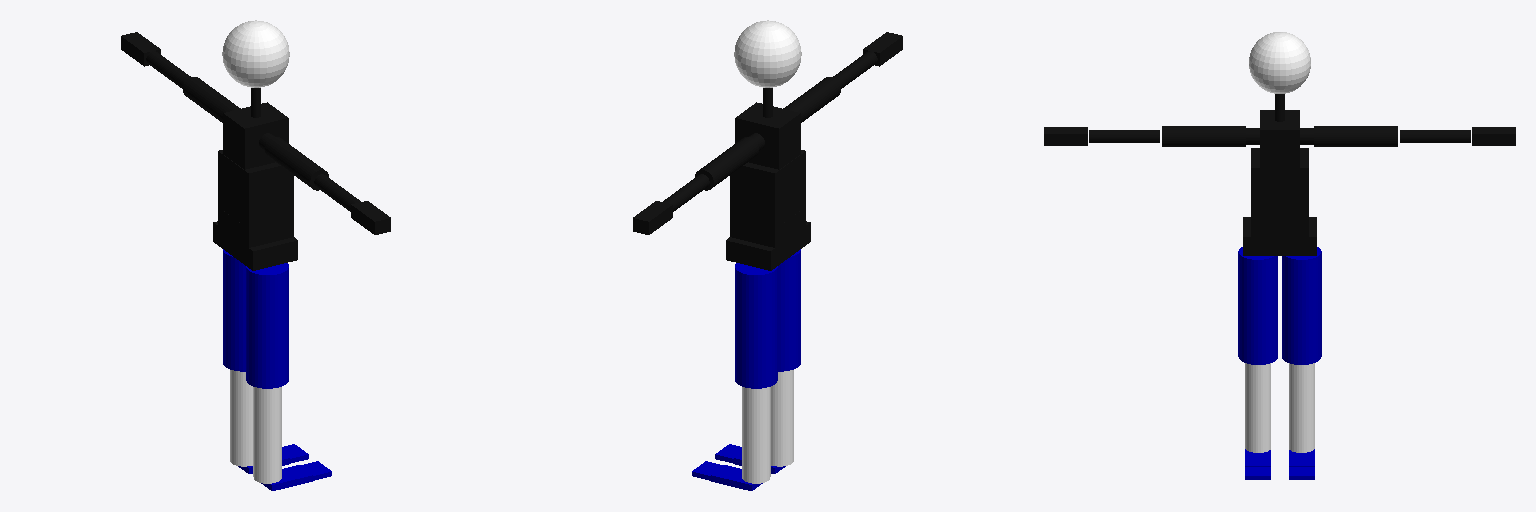
--- Render facts (derived) ---
The picture shows the robot from 3 angles, left to right: view 1: azimuth 30°, elevation 25°; view 2: azimuth 150°, elevation 25°; view 3: azimuth 270°, elevation 25°; orthographic projection.
Model XSensStyleModel_template with 50 links and 49 joints (48 revolute, 1 fixed), rooted at world, posed all joints at 0.
Visible links, largest first — view 1: RightUpperLeg, Head, T8, RightLowerLeg, LeftUpperLeg, T12, LeftLowerLeg, L3, Pelvis, L5, RightUpperArm, LeftUpperArm (+5 smaller); view 2: LeftUpperLeg, Head, T8, LeftLowerLeg, RightUpperLeg, T12, RightLowerLeg, L3, Pelvis, L5, LeftUpperArm, RightUpperArm (+5 smaller); view 3: RightUpperLeg, LeftUpperLeg, Head, RightLowerLeg, LeftLowerLeg, T8, T12, RightUpperArm, LeftUpperArm, Pelvis, L3, RightForeArm (+4 smaller).
Boxes of the visible links, box(x1,y1,x2,y2) form: RightUpperLeg: box(246, 263, 288, 388); Head: box(222, 20, 289, 87); T8: box(223, 102, 288, 169); RightLowerLeg: box(253, 387, 281, 483); LeftUpperLeg: box(223, 249, 245, 371); T12: box(218, 150, 293, 202); LeftLowerLeg: box(230, 370, 252, 466); L3: box(218, 181, 293, 231); Pelvis: box(213, 221, 297, 270); L5: box(218, 207, 293, 254); RightUpperArm: box(265, 137, 328, 190); LeftUpperArm: box(183, 77, 240, 122); LeftUpperLeg: box(735, 263, 777, 388); Head: box(734, 20, 801, 87); T8: box(735, 102, 800, 169); LeftLowerLeg: box(742, 387, 770, 483); RightUpperLeg: box(778, 249, 800, 371); T12: box(730, 150, 805, 202); RightLowerLeg: box(771, 370, 793, 466); L3: box(730, 181, 805, 230); Pelvis: box(726, 221, 810, 270); L5: box(730, 207, 805, 254); LeftUpperArm: box(695, 137, 758, 190); RightUpperArm: box(783, 77, 840, 122); RightUpperLeg: box(1238, 247, 1277, 364); LeftUpperLeg: box(1282, 247, 1321, 364); Head: box(1249, 32, 1310, 93); RightLowerLeg: box(1245, 363, 1270, 452); LeftLowerLeg: box(1289, 363, 1314, 452); T8: box(1260, 110, 1299, 167); T12: box(1251, 148, 1308, 195); RightUpperArm: box(1162, 126, 1245, 146); LeftUpperArm: box(1314, 126, 1397, 146); Pelvis: box(1243, 217, 1316, 255); L3: box(1251, 196, 1308, 222); RightForeArm: box(1089, 130, 1159, 142).
Bounding box of the posed robot: 0.2638 × 1.34 × 1.32 m (x, y, z).
Geometry: primitives only (box / cylinder / sphere), no mesh files.

robot.urdf — XSensStyleModel_template:
<!--URDF MODEL 48 DoFs-->

<!-- COTE GAUCHE ET DROITE DU BAS DU CORPS SONT INVERSES (ou pas)!!!! -->

<robot name="XSensStyleModel_template">

<material name="color">
    <color rgba="0.1 0.1 0.1 1"/>
</material>

<material name="blue">
    <color rgba="0 0 0.8 1"/>
</material>

<material name="red_transparency">
     <color rgba="1 0 0 0.5"/>              
</material>

<material name="white">
             <color rgba="1 1 1 1"/>
           </material>
<!--To open this model with Gazebo replace the null masses, inertias and dimensions of the 'fake links f1 and f2'-->

    <!--LINKS-->
    ################### AJOUT DU MONDE #################
    <link name="world"/>
    <joint name="joint_base" type="fixed">
    <origin xyz="0 0 0.67" rpy="0 0 0"/>
    <parent link="world"/>
    <child link="Pelvis"/>
    </joint>
    ######################################################
	<!--Link base (1)-->
	<link name="Pelvis">
        <inertial>
            <mass value="2.109"/>
			<!--COM origin wrt pHipOrigin-->
            <origin xyz="0           0    0.049743" rpy="0 0 0" />
            <inertia ixx="0.037" iyy="0.0027" izz="0.0045" ixy="0" ixz="0" iyz="0"/>
        </inertial>

        <visual>
			<!--box origin wrt pHipOrigin-->
            <origin xyz="0           0    0.049743" rpy="0 0 0" />
            <geometry>
                <box size="0.13815     0.20914    0.057469"/>
            </geometry>
            <material name="color"/>
        </visual>

        <collision>
			<!--box origin wrt pHipOrigin-->
            <origin xyz="0           0    0.049743" rpy="0 0 0" />
            <geometry>
                <box size="0.13815     0.20914    0.057469"/>
            </geometry>
        </collision>

    </link>
    <!--Chain from (2) to (7)-->
	<link name="L5_f1">
        <inertial>
            <mass value="0"/>
            <origin xyz="0 0 0" rpy="0 0 0" />
            <inertia ixx="0" iyy="0" izz="0" ixy="0" ixz="0" iyz="0"/>
        </inertial>
    </link>
	<link name="L5">
        <inertial>
            <mass value="1.5"/>
			<!--COM origin wrt jL5S1-->
            <origin xyz="0           0    0.047552" rpy="0 0 0" />
            <inertia ixx="0.1118" iyy="0.0715" izz="0.1609" ixy="0" ixz="0" iyz="0"/>
        </inertial>

        <visual>
			<!--box origin origin wrt jL5S1-->
            <origin xyz="0           0    0.047552" rpy="0 0 0" />
            <geometry>
                <box size="0.13815     0.16323    0.075104"/>
            </geometry>
            <material name="color"/>
        </visual>

        <collision>
			<!--box origin origin wrt jL5S1-->
            <origin xyz="0           0    0.047552" rpy="0 0 0" />
            <geometry>
                <box size="0.13815     0.16323    0.075104"/>
            </geometry>
        </collision>
    </link>
	<link name="L3_f1">
        <inertial>
            <mass value="0"/>
            <origin xyz="0 0 0" rpy="0 0 0" />
            <inertia ixx="0" iyy="0" izz="0" ixy="0" ixz="0" iyz="0"/>
        </inertial>
    </link>
	<link name="L3">
        <inertial>
            <mass value="1.5"/>
			<!--COM origin wrt jL4L3-->
            <origin xyz="0           0    0.042958" rpy="0 0 0" />
            <inertia ixx="0.1118" iyy="0.0715" izz="0.1609" ixy="0" ixz="0" iyz="0"/>
        </inertial>

        <visual>
			<!--box origin origin wrt jL4L3-->
            <origin xyz="0           0    0.042958" rpy="0 0 0" />
            <geometry>
                <box size="0.13815     0.16323    0.085916"/>
            </geometry>
            <material name="color"/>
        </visual>

        <collision>
			<!--box origin origin wrt jL4L3-->
            <origin xyz="0           0    0.042958" rpy="0 0 0" />
            <geometry>
                <box size="0.13815     0.16323    0.085916"/>
            </geometry>
        </collision>
    </link>
	<link name="T12_f1">
        <inertial>
            <mass value="0"/>
            <origin xyz="0 0 0" rpy="0 0 0" />
            <inertia ixx="0" iyy="0" izz="0" ixy="0" ixz="0" iyz="0"/>
        </inertial>
    </link>
	<link name="T12">
        <inertial>
            <mass value="1.5"/>
			<!--COM origin wrt jL1T12-->
            <origin xyz="0           0    0.042958" rpy="0 0 0" />
            <inertia ixx="0.1118" iyy="0.0715" izz="0.1609" ixy="0" ixz="0" iyz="0"/>
        </inertial>

        <visual>
			<!--box origin origin wrt jL1T12-->
            <origin xyz="0           0    0.042958" rpy="0 0 0" />
            <geometry>
                <box size="0.13815     0.16323    0.085916"/>
            </geometry>
            <material name="color"/>
        </visual>

        <collision>
			<!--box origin origin wrt jL1T12-->
            <origin xyz="0           0    0.042958" rpy="0 0 0" />
            <geometry>
                <box size="0.13815     0.16323    0.085916"/>
            </geometry>
        </collision>
    </link>
	<link name="T8_f1">
        <inertial>
            <mass value="0"/>
            <origin xyz="0 0 0" rpy="0 0 0" />
            <inertia ixx="0" iyy="0" izz="0" ixy="0" ixz="0" iyz="0"/>
        </inertial>
    </link>
	<link name="T8_f2">
        <inertial>
            <mass value="0"/>
            <origin xyz="0 0 0" rpy="0 0 0" />
            <inertia ixx="0" iyy="0" izz="0" ixy="0" ixz="0" iyz="0"/>
        </inertial>
    </link>
	<link name="T8">
        <inertial>
            <mass value="2.109"/>
			<!--COM origin wrt jT9T8-->
            <origin xyz="0           0    0.059874" rpy="0 0 0" />
            <inertia ixx="0.0037" iyy="0.0029" izz="0.0026" ixy="0" ixz="0" iyz="0"/>
        </inertial>

        <visual>
			<!--box origin wrt jT9T8-->
            <origin xyz="0           0    0.059874" rpy="0 0 0" />
            <geometry>
                <box size="0.13457    0.112626     0.11975"/>
            </geometry>
            <material name="color"/>
        </visual>

        <collision>
			<!--box origin wrt jT9T8-->
            <origin xyz="0           0    0.059874" rpy="0 0 0" />
            <geometry>
                <box size="0.13457    0.112626     0.11975"/>
            </geometry>
        </collision>

    </link>
	<link name="Neck_f1">
        <inertial>
            <mass value="0"/>
            <origin xyz="0 0 0" rpy="0 0 0" />
            <inertia ixx="0" iyy="0" izz="0" ixy="0" ixz="0" iyz="0"/>
        </inertial>
    </link>
	<link name="Neck_f2">
        <inertial>
            <mass value="0"/>
            <origin xyz="0 0 0" rpy="0 0 0" />
            <inertia ixx="0" iyy="0" izz="0" ixy="0" ixz="0" iyz="0"/>
        </inertial>
    </link>
	<link name="Neck">
        <inertial>
            <mass value="0.500"/>
			<!--COM origin wrt jT1C7-->
            <origin xyz="0           0    0.044626" rpy="0 0 0" />
            <inertia ixx="0.0006461" iyy="0.0006461" izz="0.00030124" ixy="0" ixz="0" iyz="0"/>
        </inertial>

        <visual>
			<!--box origin wrt jT1C7-->
            <origin xyz="0           0    0.044626" rpy="0 0 0" />
            <geometry>
		<cylinder length="0.089252" radius="0.014205"/>
            </geometry>
            <material name="color"/>
        </visual>

        <collision>
			<!--box origin wrt jT1C7-->
            <origin xyz="0           0    0.044626" rpy="0 0 0" />
            <geometry>
                <cylinder length="0.089252" radius="0.014205"/>
            </geometry>
        </collision>
    </link>
	<link name="Head_f1">
        <inertial>
            <mass value="0"/>
            <origin xyz="0 0 0" rpy="0 0 0" />
            <inertia ixx="0" iyy="0" izz="0" ixy="0" ixz="0" iyz="0"/>
        </inertial>
    </link>
	<link name="Head">
        <inertial>
            <mass value="2.47"/>
			<!--COM origin wrt jC1Head-->
            <origin xyz="0           0    0.089005" rpy="0 0 0" />
            <inertia ixx="0.0181" iyy="0.0193" izz="0.0124" ixy="0" ixz="0" iyz="0"/>
        </inertial>

        <visual>
			<!--boc origin wrt jC1Head-->
            <origin xyz="0           0    0.089005" rpy="0 0 0" />
            <geometry>
                <sphere radius="0.089005"/>
            </geometry>
            <material name="white"/>
        </visual>

        <collision>
			<!--box origin wrt jC1Head-->
            <origin xyz="0           0    0.089005" rpy="0 0 0" />
            <geometry>
                <sphere radius="0.089005"/>
            </geometry>
        </collision>

    </link>
	<!--Chain from (8) to (11)-->
	<link name="RightShoulder">
        <inertial>
            <mass value="0"/>
			<!--COM origin wrt jRightC7Shoulder-->
            <origin xyz="0   -0.065233           0" rpy="0 0 0" />
            <inertia ixx="0.0" iyy="0.0" izz="0.0" ixy="0" ixz="0" iyz="0"/>
        </inertial>

        <visual>
			<!--box origin wrt jRightC7Shoulder. RPY rotated of pi/2.-->
            <origin xyz="0   -0.02          0" rpy="1.5708 0 0" />
            <geometry>
                <cylinder length="0.13047" radius="0.023574"/>
            </geometry>
            <material name="color"/>
        </visual>

        <collision>
			<!--box origin wrt jRightC7Shoulder. RPY rotated of pi/2.-->
            <origin xyz="0   -0.02          0" rpy="1.5708 0 0" />
            <geometry>
                <cylinder length="0.13047" radius="0.023574"/>
            </geometry>
        </collision>

    </link>
	<link name="RightUpperArm_f1">
        <inertial>
            <mass value="0"/>
            <origin xyz="0 0 0" rpy="0 0 0" />
            <inertia ixx="0" iyy="0" izz="0" ixy="0" ixz="0" iyz="0"/>
        </inertial>
    </link>
	<link name="RightUpperArm_f2">
        <inertial>
            <mass value="0"/>
            <origin xyz="0 0 0" rpy="0 0 0" />
            <inertia ixx="0" iyy="0" izz="0" ixy="0" ixz="0" iyz="0"/>
        </inertial>
    </link>
    <link name="RightUpperArm">
        <inertial>
            <mass value="0.638"/>
			<!--COM origin wrt jRightShoulder-->
            <origin xyz="0    -0.09497          0" rpy="0 0 0" />
            <inertia ixx="0.003" iyy="0.003" izz="7.59e-04" ixy="0" ixz="0" iyz="0"/>
        </inertial>

        <visual>
			<!--box origin wrt jRightShoulder. RPY rotated of pi/2.-->
            <origin xyz="0    -0.09497          0" rpy="1.5708 0 0" />
            <geometry>
                <cylinder length="0.23994" radius="0.029449"/>
            </geometry>
            <material name="color"/>
        </visual>

        <collision>
			<!--box origin wrt jRightShoulder. RPY rotated of pi/2.-->
            <origin xyz="0    -0.13497           0" rpy="1.5708 0 0" />
            <geometry>
                <cylinder length="0.23994" radius="0.029449"/>
            </geometry>
        </collision>

    </link>
	<link name="RightForeArm_f1">
        <inertial>
            <mass value="0"/>
            <origin xyz="0 0 0" rpy="0 0 0" />
            <inertia ixx="0" iyy="0" izz="0" ixy="0" ixz="0" iyz="0"/>
        </inertial>
    </link>
	<link name="RightForeArm">
        <inertial>
            <mass value="0.352"/>
			<!--COM origin wrt jRightElbow-->
            <origin xyz="0    -0.11124           0" rpy="0 0 0" />
            <inertia ixx="0.001" iyy="8.8e-4" izz="2.75e-4" ixy="0" ixz="0" iyz="0"/>
        </inertial>

        <visual>
			<!--box origin wrt jRightElbow. RPY rotated of pi/2.-->
            <origin xyz="0    -0.11124           0" rpy="1.5708 0 0" />
            <geometry>
                <cylinder length="0.20247" radius="0.019633"/>
            </geometry>
            <material name="color"/>
        </visual>

        <collision>
			<!--box origin wrt jRightElbow. RPY rotated of pi/2.-->
            <origin xyz="0    -0.11124           0" rpy="1.5708 0 0" />
            <geometry>
                <cylinder length="0.20247" radius="0.019633"/>
            </geometry>
        </collision>

    </link>
	<link name="RightHand_f1">
        <inertial>
            <mass value="0"/>
            <origin xyz="0 0 0" rpy="0 0 0" />
            <inertia ixx="0" iyy="0" izz="0" ixy="0" ixz="0" iyz="0"/>
        </inertial>
    </link>
	<link name="RightHand">
        <inertial>
            <mass value="0.176"/>
			<!--COM origin wrt jRightWrist-->
            <origin xyz="0   -0.083588           0" rpy="0 0 0" />
            <inertia ixx="0.0011" iyy="9.57e-4" izz="5.08e-4" ixy="0" ixz="0" iyz="0"/>
        </inertial>

        <visual>
			<!--box origin wrt jRightWrist-->
            <origin xyz="0   -0.083588           0" rpy="0 0 0" />
            <geometry>
                <box size="0.05     0.125    0.039266"/>
            </geometry>
            <material name="color"/>
        </visual>

        <collision>
			<!--box origin wrt jRightWrist-->
            <origin xyz="0   -0.083588           0" rpy="0 0 0" />
            <geometry>
                <box size="0.05     0.125   0.039266"/>
            </geometry>
        </collision>

    </link>
	<!--Chain from (12) to (15)-->
	<link name="LeftShoulder">
        <inertial>
            <mass value="0"/>
			<!--COM origin wrt jLeftC7Shoulder-->
            <origin xyz="0    0.065233           0" rpy="0 0 0" />
            <inertia ixx="0.0" iyy="0.00" izz="0.00" ixy="0" ixz="0" iyz="0"/>
        </inertial>

        <visual>
			<!--box origin wrt jLeftC7Shoulder. RPY rotated of pi/2.-->
            <origin xyz="0    0.02           0" rpy="1.5708 0 0" />
            <geometry>
                <cylinder length="0.13047" radius="0.023574"/>
            </geometry>
            <material name="color"/>
        </visual>

        <collision>
			<!--box origin wrt jLeftC7Shoulder. RPY rotated of pi/2.-->
            <origin xyz="0    0.02          0" rpy="1.5708 0 0" />
            <geometry>
                <cylinder length="0.13047" radius="0.023574"/>
            </geometry>
        </collision>

    </link>
	<link name="LeftUpperArm_f1">
        <inertial>
            <mass value="0"/>
            <origin xyz="0 0 0" rpy="0 0 0" />
            <inertia ixx="0" iyy="0" izz="0" ixy="0" ixz="0" iyz="0"/>
        </inertial>
    </link>
	<link name="LeftUpperArm_f2">
        <inertial>
            <mass value="0"/>
            <origin xyz="0 0 0" rpy="0 0 0" />
            <inertia ixx="0" iyy="0" izz="0" ixy="0" ixz="0" iyz="0"/>
        </inertial>
    </link>
	<link name="LeftUpperArm">
        <inertial>
            <mass value="0.639"/>
			<!--COM origin wrt jLeftShoulder-->
            <origin xyz="0     0.09497           0" rpy="0 0 0" />
            <inertia ixx="0.003" iyy="0.003" izz="7.59e-04" ixy="0" ixz="0" iyz="0"/>
        </inertial>

        <visual>
			<!--box origin wrt jLeftShoulder. RPY rotated of pi/2.-->
            <origin xyz="0     0.09497           0" rpy="1.5708 0 0" />
            <geometry>
                <cylinder length="0.23994" radius="0.029449"/>
            </geometry>
            <material name="color"/>
        </visual>

        <collision>
			<!--box origin wrt jLeftShoulder. RPY rotated of pi/2.-->
            <origin xyz="0     0.13497           0" rpy="1.5708 0 0" />
            <geometry>
                <cylinder length="0.23994" radius="0.029449"/>
            </geometry>
        </collision>

    </link>
	<link name="LeftForeArm_f1">
        <inertial>
            <mass value="0"/>
            <origin xyz="0 0 0" rpy="0 0 0" />
            <inertia ixx="0" iyy="0" izz="0" ixy="0" ixz="0" iyz="0"/>
        </inertial>
    </link>
	<link name="LeftForeArm">
        <inertial>
            <mass value="0.352"/>
			<!--COM origin wrt jLeftElbow-->
            <origin xyz="0     0.11124           0" rpy="0 0 0" />
            <inertia ixx="0.001" iyy="8.8e-4" izz="2.75e-4" ixy="0" ixz="0" iyz="0"/>
        </inertial>

        <visual>
			<!--box origin wrt jLeftElbow. RPY rotated of pi/2.-->
            <origin xyz="0     0.11124           0" rpy="1.5708 0 0" />
            <geometry>
                <cylinder length="0.20247" radius="0.019633"/>
            </geometry>
            <material name="color"/>
        </visual>

        <collision>
			<!--box origin wrt jLeftElbow. RPY rotated of pi/2.-->
            <origin xyz="0     0.11124           0" rpy="1.5708 0 0" />
            <geometry>
                <cylinder length="0.20247" radius="0.019633"/>
            </geometry>
        </collision>

    </link>
	<link name="LeftHand_f1">
        <inertial>
            <mass value="0"/>
            <origin xyz="0 0 0" rpy="0 0 0" />
            <inertia ixx="0" iyy="0" izz="0" ixy="0" ixz="0" iyz="0"/>
        </inertial>
    </link>
	<link name="LeftHand">
        <inertial>
            <mass value="0.176"/>
			<!--COM origin wrt jLeftWrist-->
            <origin xyz="0    0.083588           0" rpy="0 0 0" />
            <inertia ixx="0.0011" iyy="9.57e-4" izz="5.08e-4" ixy="0" ixz="0" iyz="0"/>
        </inertial>

        <visual>
			<!--COM origin wrt jLeftWrist-->
            <origin xyz="0    0.083588           0" rpy="0 0 0" />
            <geometry>
                <box size="0.05     0.125    0.039266"/>
            </geometry>
            <material name="color"/>
        </visual>

        <collision>
			<!--COM origin wrt jLeftWrist-->
            <origin xyz="0    0.083588           0" rpy="0 0 0" />
            <geometry>
                <box size="0.05    0.125    0.039266"/>
            </geometry>
        </collision>

    </link>
	<!--Chain from (16) to (19)-->
	<link name="RightUpperLeg_f1">
        <inertial>
            <mass value="0"/>
            <origin xyz="0 0 0" rpy="0 0 0" />
            <inertia ixx="0" iyy="0" izz="0" ixy="0" ixz="0" iyz="0"/>
        </inertial>
    </link>
	<link name="RightUpperLeg_f2">
        <inertial>
            <mass value="0"/>
            <origin xyz="0 0 0" rpy="0 0 0" />
            <inertia ixx="0" iyy="0" izz="0" ixy="0" ixz="0" iyz="0"/>
        </inertial>
    </link>
    <link name="RightUpperLeg">
        <inertial>
            <mass value="1.98"/>
			<!--COM origin wrt jRightHip-->
            <origin xyz="0           0    -0.16449" rpy="0 0 0" />
            <inertia ixx="0.0207" iyy="0.0221" izz="0.0078" ixy="0" ixz="0" iyz="0"/>
        </inertial>

        <visual>
			<!--box origin wrt jRightHip-->
            <origin xyz="0           0.02    -0.16449" rpy="0 0 0" />
            <geometry>
                <cylinder length="0.33" radius="0.0565"/>
            </geometry>
            <material name="blue"/>
        </visual>

        <collision>
			<!--box origin wrt jRightHip-->
            <origin xyz="0           0.02   -0.16449" rpy="0 0 0" />
            <geometry>
                <cylinder length="0.33" radius="0.0565"/>
            </geometry>
        </collision>

    </link>
	<link name="RightLowerLeg_f1">
        <inertial>
            <mass value="1.078"/>
            <origin xyz="0 0 0" rpy="0 0 0" />
            <inertia ixx="0" iyy="0" izz="0" ixy="0" ixz="0" iyz="0"/>
        </inertial>
    </link>
    <link name="RightLowerLeg">
        <inertial>
            <mass value="2.2703"/>
			<!--COM origin wrt jRightKnee-->
            <origin xyz="0           0    -0.14449" rpy="0 0 0" />
            <inertia ixx="0.0066" iyy="0.0066" izz="8.45e-4" ixy="0" ixz="0" iyz="0"/>
        </inertial>

        <visual>
			<!--box origin wrt jRightKnee-->
            <origin xyz="0           0.02    -0.14449" rpy="0 0 0" />
            <geometry>
                <cylinder length="0.28" radius="0.037388"/>
            </geometry>
             <material name="white">
              <color rgba="1 1 1 1"/>
           </material>
        </visual>

        <collision>
			<!--box origin wrt jRightKnee-->
            <origin xyz="0           0.02    -0.14449" rpy="0 0 0" />
            <geometry>
                <cylinder length="0.28" radius="0.037388"/>
            </geometry>
        </collision>

    </link>
	<link name="RightFoot_f1">
        <inertial>
            <mass value="0"/>
            <origin xyz="0 0 0" rpy="0 0 0" />
            <inertia ixx="0" iyy="0" izz="0" ixy="0" ixz="0" iyz="0"/>
        </inertial>
    </link>
	<link name="RightFoot_f2">
        <inertial>
            <mass value="0"/>
            <origin xyz="0 0 0" rpy="0 0 0" />
            <inertia ixx="0" iyy="0" izz="0" ixy="0" ixz="0" iyz="0"/>
        </inertial>
    </link>
    <link name="RightFoot">
        <inertial>
            <mass value="0.44"/>
			<!--COM origin wrt jRightAnkle-->
            <origin xyz="0.054652           0   -0.028254" rpy="0 0 0" />
            <inertia ixx="0.001" iyy="0.0044" izz="0.0044" ixy="0" ixz="0" iyz="0"/>
        </inertial>

        <visual>
			<!--box origin wrt jRightAnkle-->
	    	<origin xyz="0.054652           0.02   -0.028254" rpy="0 0 0" />
            <geometry>
                <box size="0.125    0.074775    0.018509"/>
            </geometry>
            <material name="blue"/>
        </visual>

        <collision>
			<!--box origin wrt jRightAnkle-->
		    <origin xyz="0.054652           0.02   -0.028254" rpy="0 0 0" />
	            <geometry>
	                <box size="0.125    0.074775    0.018509"/>
	            </geometry>
        </collision>

    </link>
    <link name="RightToe">
        <inertial>
            <mass value="0.01"/>
			<!--COM origin wrt jRightBallFoot-->
            <origin xyz="0.030086           0           +0.012" rpy="0 0 0" />
            <inertia ixx="4.5038e-05" iyy="2.9717e-05" izz="7.1624e-05" ixy="0" ixz="0" iyz="0"/>
        </inertial>

        <visual>
			<!--box origin wrt jRightBallFoot-->
            <origin xyz="0.030086           0.02           +0.012" rpy="0 0 0" />
            <geometry>
                <box size="0.060173    0.074775    0.014191"/>
            </geometry>
            <material name="blue"/>
        </visual>

        <collision>
			<!--box origin wrt jRightBallFoot-->
            <origin xyz="0.030086           0.02           +0.012" rpy="0 0 0" />
            <geometry>
                <box size="0.060173    0.074775    0.014191"/>
            </geometry>
        </collision>
    </link>
	<!--Chain from (20) to (23)-->
	<link name="LeftUpperLeg_f1">
        <inertial>
            <mass value="0"/>
            <origin xyz="0 0 0" rpy="0 0 0" />
            <inertia ixx="0" iyy="0" izz="0" ixy="0" ixz="0" iyz="0"/>
        </inertial>
    </link>
	<link name="LeftUpperLeg_f2">
        <inertial>
            <mass value="0"/>
            <origin xyz="0 0 0" rpy="0 0 0" />
            <inertia ixx="0" iyy="0" izz="0" ixy="0" ixz="0" iyz="0"/>
        </inertial>
    </link>
    <link name="LeftUpperLeg">
        <inertial>
            <mass value="1.98"/>
			<!--COM origin wrt jLeftHip-->
            <origin xyz="0           0    -0.16449" rpy="0 0 0" />
            <inertia ixx="0.0207" iyy="0.0221" izz="0.0078" ixy="0" ixz="0" iyz="0"/>
        </inertial>

        <visual>
			<!--box origin wrt jLeftHip-->
            <origin xyz="0           -.02    -0.16449" rpy="0 0 0" />
            <geometry>
                <cylinder length="0.33" radius="0.0565"/>
            </geometry>
            <material name="blue"/>
        </visual>

        <collision>
			<!--box origin wrt jLeftHip-->
            <origin xyz="0           -.02    -0.16449" rpy="0 0 0" />
            <geometry>
                <cylinder length="0.33" radius="0.0565"/>
            </geometry>
        </collision>

    </link>
	<link name="LeftLowerLeg_f1">
        <inertial>
            <mass value="0"/>
            <origin xyz="0 0 0" rpy="0 0 0" />
            <inertia ixx="0" iyy="0" izz="0" ixy="0" ixz="0" iyz="0"/>
        </inertial>
    </link>
	<link name="LeftLowerLeg">
        <inertial>
            <mass value="1.078"/>
			<!--COM origin wrt jLeftKnee-->
            <origin xyz="0           0    -0.14449" rpy="0 0 0" />
            <inertia ixx="0.0066" iyy="0.0066" izz="8.45e-4" ixy="0" ixz="0" iyz="0"/>
        </inertial>

        <visual>
			<!--box origin wrt jLeftKnee-->
            <origin xyz="0           -.02    -0.14449" rpy="0 0 0" />
            <geometry>
		<cylinder length="0.28" radius="0.037388"/>
            </geometry>
            <material name="white"/>
        </visual>

        <collision>
			<!--box origin wrt jLeftKnee-->
            <origin xyz="0           -.02    -0.14449" rpy="0 0 0" />
            <geometry>
		<cylinder length="0.28" radius="0.037388"/>
            </geometry>
        </collision>

    </link>
	<link name="LeftFoot_f1">
        <inertial>
            <mass value="0"/>
            <origin xyz="0 0 0" rpy="0 0 0" />
            <inertia ixx="0" iyy="0" izz="0" ixy="0" ixz="0" iyz="0"/>
        </inertial>
    </link>
	<link name="LeftFoot_f2">
        <inertial>
            <mass value="0"/>
            <origin xyz="0 0 0" rpy="0 0 0" />
            <inertia ixx="0" iyy="0" izz="0" ixy="0" ixz="0" iyz="0"/>
        </inertial>
    </link>
    <link name="LeftFoot">
        <inertial>
            <mass value="0.44"/>
			<!--COM origin wrt jLeftAnkle-->
            <origin xyz="0.054652           0   -0.028254" rpy="0 0 0" />
            <inertia ixx="0.001" iyy="0.0044" izz="0.0044" ixy="0" ixz="0" iyz="0"/>
        </inertial>

        <visual>
			<!--box origin wrt jLeftAnkle-->
	   	 	<origin xyz="0.054652           -.02   -0.028254" rpy="0 0 0" />
            <geometry>
                <box size="0.125    0.074775    0.018509"/>
            </geometry>
            <material name="blue"/>
        </visual>

        <collision>
			<!--box origin wrt jLeftAnkle-->
		    <origin xyz="0.054652           -.02   -0.028254" rpy="0 0 0" />
	            <geometry>
	                <box size="0.125    0.074775    0.018509"/>
	            </geometry>
        </collision>

    </link>
	<link name="LeftToe">
        <inertial>
            <mass value="0.01"/>
			<!--COM origin wrt jLeftBallFoot-->
            <origin xyz="0.030086           0           +0.012" rpy="0 0 0" />
            <inertia ixx="4.5038e-05" iyy="2.9717e-05" izz="7.1624e-05" ixy="0" ixz="0" iyz="0"/>
        </inertial>

        <visual>
			<!--box origin wrt jLeftBallFoot-->
            <origin xyz="0.030086           -.02           +0.012" rpy="0 0 0" />
            <geometry>
                <box size="0.060173    0.074775    0.014191"/>
            </geometry>
            <material name="blue"/>
        </visual>

        <collision>
			<!--box origin wrt jLeftBallFoot-->
            <origin xyz="0.030086           -.02           +0.012" rpy="0 0 0" />
            <geometry>
                <box size="0.060173    0.074775    0.014191"/>
            </geometry>
        </collision>
    </link>


	<!--JOINTS-->
	<!--Chain from (2) to (7)-->
	<joint name="jL5S1_rotx" type="revolute">
        <origin xyz="-0.000206           0    0.048478" rpy="0 0 0"/>
        <parent link="Pelvis"/>
        <child link="L5_f1"/>
        <dynamics damping="0.1" friction="0.0"/>
        <limit effort="30" velocity="1.0" lower="-0.610865" upper="0.610865" />
        <axis xyz="1 0 0" />
    </joint>
	<joint name="jL5S1_roty" type="revolute">
        <origin xyz="0 0 0" rpy="0 0 0"/>
        <parent link="L5_f1"/>
        <child link="L5"/>
        <dynamics damping="0.1" friction="0.0"/>
        <limit effort="30" velocity="1.0" lower="-0.523599" upper="1.309" />
        <axis xyz="0 -1 0" />
    </joint>
	<joint name="jL4L3_rotx" type="revolute">
        <origin xyz="0.000374           0    0.075104" rpy="0 0 0"/>
        <parent link="L5"/>
        <child link="L3_f1"/>
        <dynamics damping="0.1" friction="0.0"/>
        <limit effort="30" velocity="1.0" lower="-0.610865" upper="0.610865" />
        <axis xyz="1 0 0" />
    </joint>
	<joint name="jL4L3_roty" type="revolute">
        <origin xyz="0 0 0" rpy="0 0 0"/>
        <parent link="L3_f1"/>
        <child link="L3"/>
        <dynamics damping="0.1" friction="0.0"/>
        <limit effort="30" velocity="1.0" lower="-0.523599" upper="1.309" />
        <axis xyz="0 -1 0" />
    </joint>
	<joint name="jL1T12_rotx" type="revolute">
        <origin xyz="0           0    0.085916" rpy="0 0 0"/>
        <parent link="L3"/>
        <child link="T12_f1"/>
        <dynamics damping="0.1" friction="0.0"/>
        <limit effort="30" velocity="1.0" lower="-0.610865" upper="0.610865" />
        <axis xyz="1 0 0" />
    </joint>
	<joint name="jL1T12_roty" type="revolute">
        <origin xyz="0 0 0" rpy="0 0 0"/>
        <parent link="T12_f1"/>
        <child link="T12"/>
        <dynamics damping="0.1" friction="0.0"/>
        <limit effort="30" velocity="1.0" lower="-0.523599" upper="1.309" />
        <axis xyz="0 -1 0" />
    </joint>
	<joint name="jT9T8_rotx" type="revolute">
        <origin xyz="0           0    0.085916" rpy="0 0 0"/>
        <parent link="T12"/>
        <child link="T8_f1"/>
        <dynamics damping="0.1" friction="0.0"/>
        <limit effort="30" velocity="1.0" lower="-0.349066" upper="0.349066" />
        <axis xyz="1 0 0" />
    </joint>
	<joint name="jT9T8_roty" type="revolute">
        <origin xyz="0 0 0" rpy="0 0 0"/>
        <parent link="T8_f1"/>
        <child link="T8_f2"/>
        <dynamics damping="0.1" friction="0.0"/>
        <limit effort="30" velocity="1.0" lower="-0.261799" upper="0.698132" />
        <axis xyz="0 -1 0" />
    </joint>
    <joint name="jT9T8_rotz" type="revolute">
        <origin xyz="0 0 0" rpy="0 0 0"/>
        <parent link="T8_f2"/>
        <child link="T8"/>
        <dynamics damping="0.1" friction="0.0"/>
        <limit effort="30" velocity="1.0" lower="-0.610865" upper="0.610865" />
        <axis xyz="0 0 1" />
    </joint>
	<joint name="jT1C7_rotx" type="revolute">
        <origin xyz="0           0     0.11975" rpy="0 0 0"/>
        <parent link="T8"/>
        <child link="Neck_f1"/>
        <dynamics damping="0.1" friction="0.0"/>
        <limit effort="30" velocity="1.0" lower="-0.610865" upper="0.610865" />
        <axis xyz="1 0 0" />
    </joint>
	<joint name="jT1C7_roty" type="revolute">
        <origin xyz="0 0 0" rpy="0 0 0"/>
        <parent link="Neck_f1"/>
        <child link="Neck_f2"/>
        <dynamics damping="0.1" friction="0.0"/>
        <limit effort="30" velocity="1.0" lower="-0.959931" upper="1.5708" />
        <axis xyz="0 -1 0" />
    </joint>
    <joint name="jT1C7_rotz" type="revolute">
        <origin xyz="0 0 0" rpy="0 0 0"/>
        <parent link="Neck_f2"/>
        <child link="Neck"/>
        <dynamics damping="0.1" friction="0.0"/>
        <limit effort="30" velocity="1.0" lower="-1.22173" upper="1.22173" />
        <axis xyz="0 0 1" />
    </joint>
	<joint name="jC1Head_rotx" type="revolute">
        <origin xyz="0.000152           0    0.089252" rpy="0 0 0"/>
        <parent link="Neck"/>
        <child link="Head_f1"/>
        <dynamics damping="0.1" friction="0.0"/>
        <limit effort="30" velocity="1.0" lower="-0.610865" upper="0.610865" />
        <axis xyz="1 0 0" />
    </joint>
	<joint name="jC1Head_roty" type="revolute">
        <origin xyz="0 0 0" rpy="0 0 0"/>
        <parent link="Head_f1"/>
        <child link="Head"/>
        <dynamics damping="0.1" friction="0.0"/>
        <limit effort="30" velocity="1.0" lower="-0.436332" upper="0.174533" />
        <axis xyz="0 -1 0" />
    </joint>
	<!--Chain from (8) to (11)-->
	<joint name="jRightC7Shoulder_rotx" type="revolute">
        <origin xyz="0   -0.026313    0.067052" rpy="0 0 0"/>
        <parent link="T8"/>
        <child link="RightShoulder"/>
        <dynamics damping="0.1" friction="0.0"/>
        <limit effort="30" velocity="1.0" lower="-0.785398" upper="0.0872665" />
        <axis xyz="1 0 0" />
    </joint>
	<joint name="jRightShoulder_rotx" type="revolute">
        <origin xyz="0    -0.09497          0" rpy="0 0 0"/>
        <parent link="RightShoulder"/>
        <child link="RightUpperArm_f1"/>
        <dynamics damping="0.1" friction="0.0"/>
        <limit effort="30" velocity="1.0" lower="-2.35619" upper="1.5708" />
        <axis xyz="1 0 0" />
    </joint>
	<joint name="jRightShoulder_roty" type="revolute">
        <origin xyz="0 0 0" rpy="0 0 0"/>
        <parent link="RightUpperArm_f1"/>
        <child link="RightUpperArm_f2"/>
        <dynamics damping="0.1" friction="0.0"/>
        <limit effort="30" velocity="1.0" lower="-1.5708" upper="1.5708" />
        <axis xyz="0 -1 0" />
    </joint>
    <joint name="jRightShoulder_rotz" type="revolute">
        <origin xyz="0 0 0" rpy="0 0 0"/>
        <parent link="RightUpperArm_f2"/>
        <child link="RightUpperArm"/>
        <dynamics damping="0.1" friction="0.0"/>
        <limit effort="30" velocity="1.0" lower="-0.785398" upper="3.14159" />
        <axis xyz="0 0 1" />
    </joint>
	<joint name="jRightElbow_roty" type="revolute">
        <origin xyz="0    -0.20994           0" rpy="0 0 0"/>
        <parent link="RightUpperArm"/>
        <child link="RightForeArm_f1"/>
        <dynamics damping="0.1" friction="0.0"/>
        <limit effort="30" velocity="1.0" lower="-1.5708" upper="1.48353" />
        <axis xyz="0 -1 0" />
    </joint>
	<joint name="jRightElbow_rotz" type="revolute">
        <origin xyz="0 0 0" rpy="0 0 0"/>
        <parent link="RightForeArm_f1"/>
        <child link="RightForeArm"/>
        <dynamics damping="0.1" friction="0.0"/>
        <limit effort="30" velocity="1.0" lower="0" upper="2.53073" />
        <axis xyz="0 0 1" />
    </joint>
	<joint name="jRightWrist_rotx" type="revolute">
        <origin xyz="7.7e-05    -0.19247           0" rpy="0 0 0"/>
        <parent link="RightForeArm"/>
        <child link="RightHand_f1"/>
        <dynamics damping="0.1" friction="0.0"/>
        <limit effort="30" velocity="1.0" lower="-0.872665" upper="1.0472" />
        <axis xyz="1 0 0" />
    </joint>
	<joint name="jRightWrist_rotz" type="revolute">
        <origin xyz="0 0 0" rpy="0 0 0"/>
        <parent link="RightHand_f1"/>
        <child link="RightHand"/>
        <dynamics damping="0.1" friction="0.0"/>
        <limit effort="30" velocity="1.0" lower="-0.523599" upper="0.349066" />
        <axis xyz="0 0 1" />
    </joint>
	<!--Chain from (12) to (15)-->
	<joint name="jLeftC7Shoulder_rotx" type="revolute">
        <origin xyz="0    0.026313    0.067052" rpy="0 0 0"/>
        <parent link="T8"/>
        <child link="LeftShoulder"/>
        <dynamics damping="0.1" friction="0.0"/>
        <limit effort="30" velocity="1.0" lower="-0.0872665" upper="0.785398" />
        <axis xyz="1 0 0" />
    </joint>
	<joint name="jLeftShoulder_rotx" type="revolute">
        <origin xyz="0     0.09497           0" rpy="0 0 0"/>
        <parent link="LeftShoulder"/>
        <child link="LeftUpperArm_f1"/>
        <dynamics damping="0.1" friction="0.0"/>
        <limit effort="30" velocity="1.0" lower="-1.5708" upper="2.35619" />
        <axis xyz="1 0 0" />
    </joint>
	<joint name="jLeftShoulder_roty" type="revolute">
        <origin xyz="0 0 0" rpy="0 0 0"/>
        <parent link="LeftUpperArm_f1"/>
        <child link="LeftUpperArm_f2"/>
        <dynamics damping="0.1" friction="0.0"/>
        <limit effort="30" velocity="1.0" lower="-1.5708" upper="1.5708" />
        <axis xyz="0 -1 0" />
    </joint>
    <joint name="jLeftShoulder_rotz" type="revolute">
        <origin xyz="0 0 0" rpy="0 0 0"/>
        <parent link="LeftUpperArm_f2"/>
        <child link="LeftUpperArm"/>
        <dynamics damping="0.1" friction="0.0"/>
        <limit effort="30" velocity="1.0" lower="-3.14159" upper="0.785398" />
        <axis xyz="0 0 1" />
    </joint>
    <joint name="jLeftElbow_roty" type="revolute">
        <origin xyz="0     0.20994           0" rpy="0 0 0"/>
        <parent link="LeftUpperArm"/>
        <child link="LeftForeArm_f1"/>
        <dynamics damping="0.1" friction="0.0"/>
        <limit effort="30" velocity="1.0" lower="-1.5708" upper="1.48353" />
        <axis xyz="0 -1 0" />
    </joint>
    <joint name="jLeftElbow_rotz" type="revolute">
        <origin xyz="0 0 0" rpy="0 0 0"/>
        <parent link="LeftForeArm_f1"/>
        <child link="LeftForeArm"/>
        <dynamics damping="0.1" friction="0.0"/>
        <limit effort="30" velocity="1.0" lower="-2.53073" upper="0" />
        <axis xyz="0 0 1" />
    </joint>
	<joint name="jLeftWrist_rotx" type="revolute">
        <origin xyz="7.7e-05     0.19247           0" rpy="0 0 0"/>
        <parent link="LeftForeArm"/>
        <child link="LeftHand_f1"/>
        <dynamics damping="0.1" friction="0.0"/>
        <limit effort="30" velocity="1.0" lower="-1.0472" upper="0.872665" />
        <axis xyz="1 0 0" />
    </joint>
	<joint name="jLeftWrist_rotz" type="revolute">
        <origin xyz="0 0 0" rpy="0 0 0"/>
        <parent link="LeftHand_f1"/>
        <child link="LeftHand"/>
        <dynamics damping="0.1" friction="0.0"/>
        <limit effort="30" velocity="1.0" lower="-0.349066" upper="0.523599" />
        <axis xyz="0 0 1" />
    </joint>
	<!--Chain from (16) to (19)-->
	<joint name="jRightHip_rotx" type="revolute">
        <origin xyz="0.000103   -0.081614    0.001009" rpy="0 0 0"/>
        <parent link="Pelvis"/>
        <child link="RightUpperLeg_f1"/>
        <dynamics damping="0.1" friction="0.0"/>
        <limit effort="10000000" velocity="100000" lower="-100000" upper="10000" />
        <axis xyz="1 0 0" />
    </joint>
	<joint name="jRightHip_roty" type="revolute">
        <origin xyz="0 0 0" rpy="0 0 0"/>
        <parent link="RightUpperLeg_f1"/>
        <child link="RightUpperLeg_f2"/>
        <dynamics damping="0.1" friction="0.0"/>
        <limit effort="10000000" velocity="100000" lower="-100000" upper="10000" />
        <axis xyz="0 -1 0" />
    </joint>
    <joint name="jRightHip_rotz" type="revolute">
        <origin xyz="0 0 0" rpy="0 0 0"/>
        <parent link="RightUpperLeg_f2"/>
        <child link="RightUpperLeg"/>
        <dynamics damping="0.1" friction="0.0"/>
        <limit effort="10000000" velocity="100000" lower="-100000" upper="10000" />
        <axis xyz="0 0 1" />
    </joint>
	<joint name="jRightKnee_roty" type="revolute">
        <origin xyz="3.6e-05           0    -0.33" rpy="0 0 0"/>
        <parent link="RightUpperLeg"/>
        <child link="RightLowerLeg_f1"/>
        <dynamics damping="0.1" friction="0.0"/>
        <limit effort="10000000" velocity="100000" lower="-100000" upper="10000" />
        <axis xyz="0 -1 0" />
    </joint>
	<joint name="jRightKnee_rotz" type="revolute">
        <origin xyz="0 0 0" rpy="0 0 0"/>
        <parent link="RightLowerLeg_f1"/>
        <child link="RightLowerLeg"/>
        <dynamics damping="0.1" friction="0.0"/>
        <limit effort="10000000" velocity="100000" lower="-100000" upper="10000" />
        <axis xyz="0 0 1" />
    </joint>
	<joint name="jRightAnkle_rotx" type="revolute">
        <origin xyz="0.000205           0    -0.27" rpy="0 0 0"/>
        <parent link="RightLowerLeg"/>
        <child link="RightFoot_f1"/>
        <dynamics damping="0.1" friction="0.0"/>
        <limit effort="10000000" velocity="100000" lower="-100000" upper="10000" />
        <axis xyz="1 0 0" />
    </joint>
	<joint name="jRightAnkle_roty" type="revolute">
        <origin xyz="0 0 0" rpy="0 0 0"/>
        <parent link="RightFoot_f1"/>
        <child link="RightFoot_f2"/>
        <dynamics damping="0.1" friction="0.0"/>
        <limit effort="10000000" velocity="100000" lower="-100000" upper="10000" />
        <axis xyz="0 -1 0" />
    </joint>
    <joint name="jRightAnkle_rotz" type="revolute">
        <origin xyz="0 0 0" rpy="0 0 0"/>
        <parent link="RightFoot_f2"/>
        <child link="RightFoot"/>
        <dynamics damping="0.1" friction="0.0"/>
        <limit effort="10000000" velocity="100000" lower="-100000" upper="10000" />
        <axis xyz="0 0 1" />
    </joint>
	<joint name="jRightBallFoot_roty" type="revolute">
        <origin xyz="0.11456           0   -0.040752" rpy="0 0 0"/>
        <parent link="RightFoot"/>
        <child link="RightToe"/>
        <dynamics damping="0.1" friction="0.0"/>
        <limit effort="10000000" velocity="100000" lower="-100000" upper="10000" />
        <axis xyz="0 -1 0" />
    </joint>
	<!--Chain from (20) to (23)-->
	<joint name="jLeftHip_rotx" type="revolute">
        <origin xyz="0.000103    0.081614    0.001009" rpy="0 0 0"/>
        <parent link="Pelvis"/>
        <child link="LeftUpperLeg_f1"/>
        <dynamics damping="0.1" friction="0.0"/>
        <limit effort="10000000" velocity="100000" lower="-100000" upper="10000" />
        <axis xyz="1 0 0" />
    </joint>
	<joint name="jLeftHip_roty" type="revolute">
        <origin xyz="0 0 0" rpy="0 0 0"/>
        <parent link="LeftUpperLeg_f1"/>
        <child link="LeftUpperLeg_f2"/>
        <dynamics damping="0.1" friction="0.0"/>
        <limit effort="10000000" velocity="100000" lower="-100000" upper="10000" />
        <axis xyz="0 -1 0" />
    </joint>
    <joint name="jLeftHip_rotz" type="revolute">
        <origin xyz="0 0 0" rpy="0 0 0"/>
        <parent link="LeftUpperLeg_f2"/>
        <child link="LeftUpperLeg"/>
        <dynamics damping="0.1" friction="0.0"/>
        <limit effort="10000000" velocity="100000" lower="-100000" upper="10000" />
        <axis xyz="0 0 1" />
    </joint>
	<joint name="jLeftKnee_roty" type="revolute">
        <origin xyz="3.6e-05           0    -0.33" rpy="0 0 0"/>
        <parent link="LeftUpperLeg"/>
        <child link="LeftLowerLeg_f1"/>
        <dynamics damping="0.1" friction="0.0"/>
        <limit effort="10000000" velocity="100000" lower="-100000" upper="10000" />
        <axis xyz="0 -1 0" />
    </joint>
    <joint name="jLeftKnee_rotz" type="revolute">
        <origin xyz="0 0 0" rpy="0 0 0"/>
        <parent link="LeftLowerLeg_f1"/>
        <child link="LeftLowerLeg"/>
        <dynamics damping="0.1" friction="0.0"/>
        <limit effort="10000000" velocity="100000" lower="-100000" upper="10000" />
        <axis xyz="0 0 1" />
    </joint>
	<joint name="jLeftAnkle_rotx" type="revolute">
        <origin xyz="0.000205           0    -0.27" rpy="0 0 0"/>
        <parent link="LeftLowerLeg"/>
        <child link="LeftFoot_f1"/>
        <dynamics damping="0.1" friction="0.0"/>
        <limit effort="10000000" velocity="100000" lower="-100000" upper="10000" />
        <axis xyz="1 0 0" />
    </joint>
	<joint name="jLeftAnkle_roty" type="revolute">
        <origin xyz="0 0 0" rpy="0 0 0"/>
        <parent link="LeftFoot_f1"/>
        <child link="LeftFoot_f2"/>
        <dynamics damping="0.1" friction="0.0"/>
        <limit effort="10000000" velocity="100000" lower="-100000" upper="10000" />
        <axis xyz="0 -1 0" />
    </joint>
    <joint name="jLeftAnkle_rotz" type="revolute">
        <origin xyz="0 0 0" rpy="0 0 0"/>
        <parent link="LeftFoot_f2"/>
        <child link="LeftFoot"/>
        <dynamics damping="0.1" friction="0.0"/>
        <limit effort="10000000" velocity="100000" lower="-100000" upper="10000" />
        <axis xyz="0 0 1" />
    </joint>
	<joint name="jLeftBallFoot_roty" type="revolute">
        <origin xyz="0.11456           0   -0.040752" rpy="0 0 0"/>
        <parent link="LeftFoot"/>
        <child link="LeftToe"/>
        <dynamics damping="0.1" friction="0.0"/>
        <limit effort="10000000" velocity="100000" lower="-100000" upper="10000" />
        <axis xyz="0 -1 0" />
    </joint>

	<!-- Sensor  1-->
<sensor name="Pelvis_gyro" type="gyroscope">
<parent link="Pelvis"/>
<origin xyz="-0.056756 -5.6944e-06    0.097055" rpy="-0.3247     0.95826      2.4984"/>
</sensor>
<sensor name="Pelvis_accelerometer" type="accelerometer">
<parent link="Pelvis"/>
<origin xyz="-0.056756 -5.6944e-06    0.097055" rpy="-0.3247     0.95826      2.4984"/>
</sensor>
<!-- Sensor  2-->
<sensor name="T8_gyro" type="gyroscope">
<parent link="T8"/>
<origin xyz="0.1256  2.9265e-07    0.069079" rpy="0.054662      1.1921    0.026605"/>
</sensor>
<sensor name="T8_accelerometer" type="accelerometer">
<parent link="T8"/>
<origin xyz="0.1256  2.9265e-07    0.069079" rpy="0.054662      1.1921    0.026605"/>
</sensor>
<!-- Sensor  3-->
<sensor name="Head_gyro" type="gyroscope">
<parent link="Head"/>
<origin xyz="-0.069574  4.0118e-07    0.076475" rpy="2.3602    0.029132     -1.6926"/>
</sensor>
<sensor name="Head_accelerometer" type="accelerometer">
<parent link="Head"/>
<origin xyz="-0.069574  4.0118e-07    0.076475" rpy="2.3602    0.029132     -1.6926"/>
</sensor>
<!-- Sensor  4-->
<sensor name="RightShoulder_gyro" type="gyroscope">
<parent link="RightShoulder"/>
<origin xyz="-0.018859   -0.047148   -0.056578" rpy="1.3372    -0.28335     -1.4594"/>
</sensor>
<sensor name="RightShoulder_accelerometer" type="accelerometer">
<parent link="RightShoulder"/>
<origin xyz="-0.018859   -0.047148   -0.056578" rpy="1.3372    -0.28335     -1.4594"/>
</sensor>
<!-- Sensor  5-->
<sensor name="RightUpperArm_gyro" type="gyroscope">
<parent link="RightUpperArm"/>
<origin xyz="-0.018123   -0.090613    0.018123" rpy="-0.15226    0.030142     -1.5884"/>
</sensor>
<sensor name="RightUpperArm_accelerometer" type="accelerometer">
<parent link="RightUpperArm"/>
<origin xyz="-0.018123   -0.090613    0.018123" rpy="-0.15226    0.030142     -1.5884"/>
</sensor>
<!-- Sensor  6-->
<sensor name="RightForeArm_gyro" type="gyroscope">
<parent link="RightForeArm"/>
<origin xyz="0.0016793    -0.18323      0.0183" rpy="-1.1132    0.015024     -1.2543"/>
</sensor>
<sensor name="RightForeArm_accelerometer" type="accelerometer">
<parent link="RightForeArm"/>
<origin xyz="0.0016793    -0.18323      0.0183" rpy="-1.1132    0.015024     -1.2543"/>
</sensor>
<!-- Sensor  7-->
<sensor name="RightHand_gyro" type="gyroscope">
<parent link="RightHand"/>
<origin xyz="-3.4565e-08   -0.050814    0.018478" rpy="-0.69083   -0.053849     -1.4329"/>
</sensor>
<sensor name="RightHand_accelerometer" type="accelerometer">
<parent link="RightHand"/>
<origin xyz="-3.4565e-08   -0.050814    0.018478" rpy="-0.69083   -0.053849     -1.4329"/>
</sensor>
<!-- Sensor  8-->
<sensor name="LeftShoulder_gyro" type="gyroscope">
<parent link="LeftShoulder"/>
<origin xyz="-0.018859    0.047148   -0.056578" rpy="-1.1487    -0.34419      1.3655"/>
</sensor>
<sensor name="LeftShoulder_accelerometer" type="accelerometer">
<parent link="LeftShoulder"/>
<origin xyz="-0.018859    0.047148   -0.056578" rpy="-1.1487    -0.34419      1.3655"/>
</sensor>
<!-- Sensor  9-->
<sensor name="LeftUpperArm_gyro" type="gyroscope">
<parent link="LeftUpperArm"/>
<origin xyz="-0.018123    0.090613    0.018123" rpy="0.094373   -0.042991      1.6861"/>
</sensor>
<sensor name="LeftUpperArm_accelerometer" type="accelerometer">
<parent link="LeftUpperArm"/>
<origin xyz="-0.018123    0.090613    0.018123" rpy="0.094373   -0.042991      1.6861"/>
</sensor>
<!-- Sensor  10-->
<sensor name="LeftForeArm_gyro" type="gyroscope">
<parent link="LeftForeArm"/>
<origin xyz="0.0016791     0.18323    0.018301" rpy="0.90429     0.18107      1.1351"/>
</sensor>
<sensor name="LeftForeArm_accelerometer" type="accelerometer">
<parent link="LeftForeArm"/>
<origin xyz="0.0016791     0.18323    0.018301" rpy="0.90429     0.18107      1.1351"/>
</sensor>
<!-- Sensor  11-->
<sensor name="LeftHand_gyro" type="gyroscope">
<parent link="LeftHand"/>
<origin xyz="1.1198e-08    0.050814    0.018478" rpy="1.2175   -0.077786      1.3837"/>
</sensor>
<sensor name="LeftHand_accelerometer" type="accelerometer">
<parent link="LeftHand"/>
<origin xyz="1.1198e-08    0.050814    0.018478" rpy="1.2175   -0.077786      1.3837"/>
</sensor>
<!-- Sensor  12-->
<sensor name="RightUpperLeg_gyro" type="gyroscope">
<parent link="RightUpperLeg"/>
<origin xyz="0.012972    -0.04567    -0.26981" rpy="2.8247      1.4102      1.8304"/>
</sensor>
<sensor name="RightUpperLeg_accelerometer" type="accelerometer">
<parent link="RightUpperLeg"/>
<origin xyz="0.012972    -0.04567    -0.26981" rpy="2.8247      1.4102      1.8304"/>
</sensor>
<!-- Sensor  13-->
<sensor name="RightLowerLeg_gyro" type="gyroscope">
<parent link="RightLowerLeg"/>
<origin xyz="0.030805   0.0070514    -0.13253" rpy="-2.9287      1.4733     -1.9582"/>
</sensor>
<sensor name="RightLowerLeg_accelerometer" type="accelerometer">
<parent link="RightLowerLeg"/>
<origin xyz="0.030805   0.0070514    -0.13253" rpy="-2.9287      1.4733     -1.9582"/>
</sensor>
<!-- Sensor  14-->
<sensor name="RightFoot_gyro" type="gyroscope">
<parent link="RightFoot"/>
<origin xyz="0.083701   0.0013928   -0.011817" rpy="0.30301     0.49685    -0.19697"/>
</sensor>
<sensor name="RightFoot_accelerometer" type="accelerometer">
<parent link="RightFoot"/>
<origin xyz="0.083701   0.0013928   -0.011817" rpy="0.30301     0.49685    -0.19697"/>
</sensor>
<!-- Sensor  15-->
<sensor name="LeftUpperLeg_gyro" type="gyroscope">
<parent link="LeftUpperLeg"/>
<origin xyz="0.012973     0.04567    -0.26981" rpy="-2.3214      1.4159     -1.1979"/>
</sensor>
<sensor name="LeftUpperLeg_accelerometer" type="accelerometer">
<parent link="LeftUpperLeg"/>
<origin xyz="0.012973     0.04567    -0.26981" rpy="-2.3214      1.4159     -1.1979"/>
</sensor>
<!-- Sensor  16-->
<sensor name="LeftLowerLeg_gyro" type="gyroscope">
<parent link="LeftLowerLeg"/>
<origin xyz="0.030805  -0.0070515    -0.13253" rpy="-2.6156      1.3817      2.7867"/>
</sensor>
<sensor name="LeftLowerLeg_accelerometer" type="accelerometer">
<parent link="LeftLowerLeg"/>
<origin xyz="0.030805  -0.0070515    -0.13253" rpy="-2.6156      1.3817      2.7867"/>
</sensor>
<!-- Sensor  17-->
<sensor name="LeftFoot_gyro" type="gyroscope">
<parent link="LeftFoot"/>
<origin xyz="0.083701  -0.0013929   -0.011817" rpy="-0.10862      0.4501     0.37976"/>
</sensor>
<sensor name="LeftFoot_accelerometer" type="accelerometer">
<parent link="LeftFoot"/>
<origin xyz="0.083701  -0.0013929   -0.011817" rpy="-0.10862      0.4501     0.37976"/>
</sensor>


</robot>
